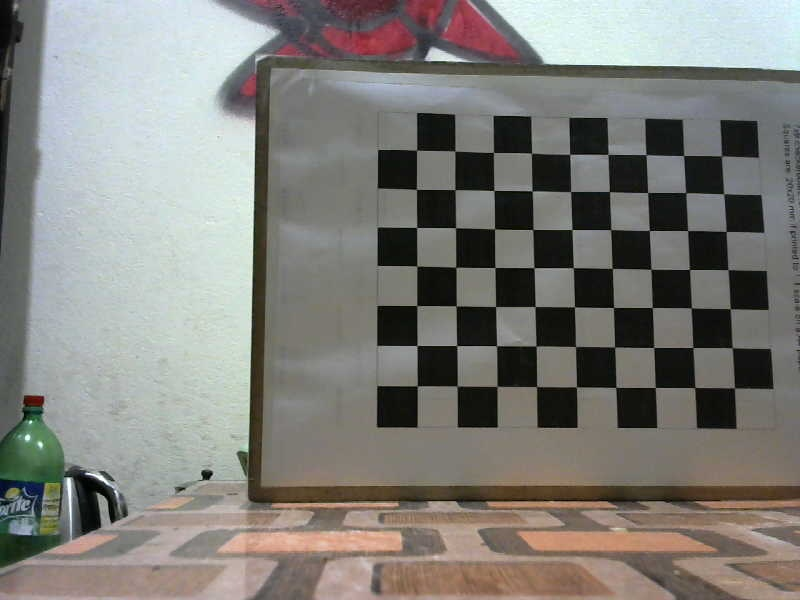block: (284, 95, 793, 505)
